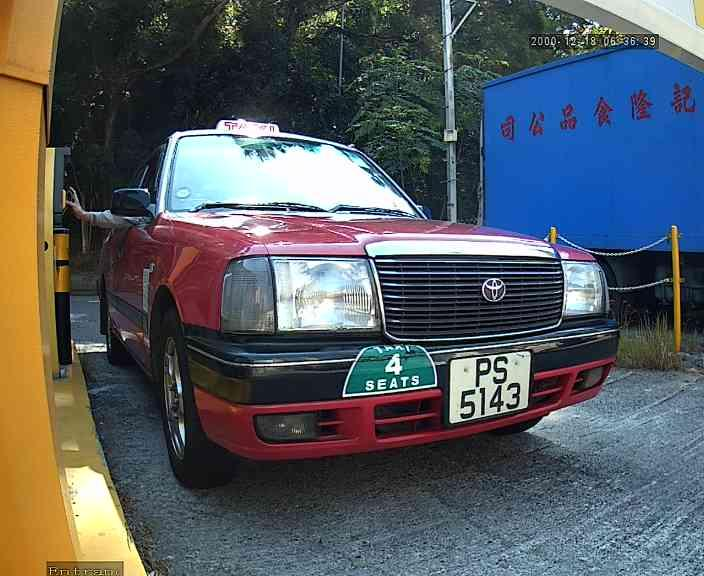Car: (85, 88, 637, 498)
License Plate: (440, 346, 544, 428)
